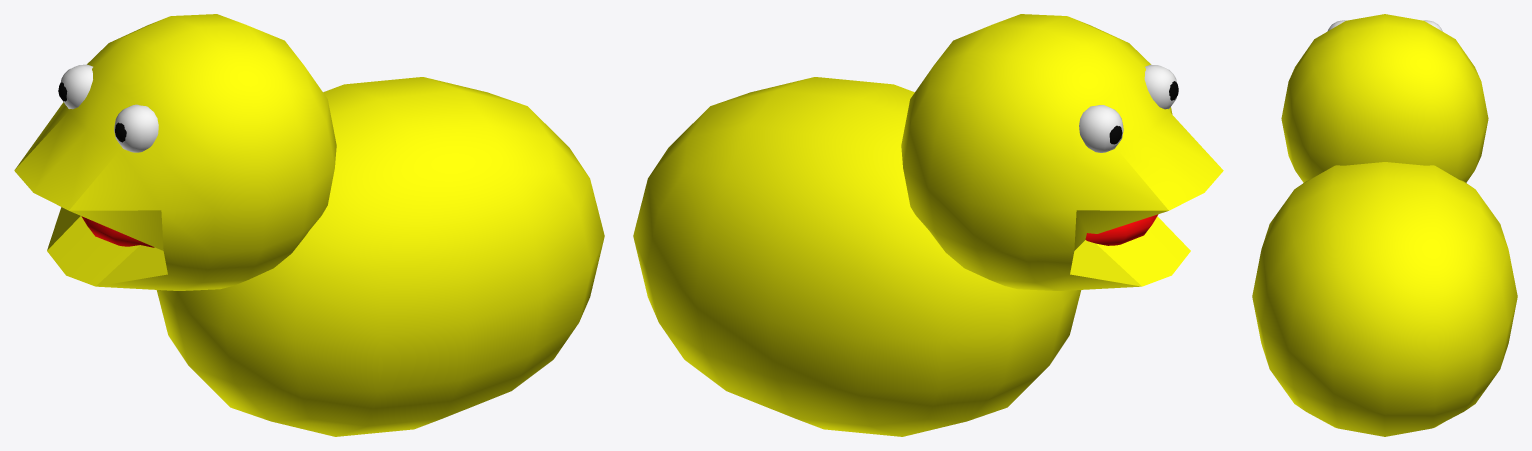
File: pet-duck.glb
3 views of the same model, side by side, from view 1: azimuth 30°, elevation 25°; view 2: azimuth 150°, elevation 25°; view 3: azimuth 270°, elevation 25° (orthographic). The views are drawn at different scales.
Bounding box in the file's own units: 0.0347 × 0.026 × 0.0193.
